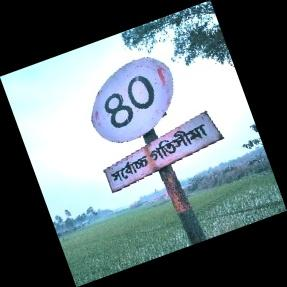Speed-limit: (91, 55, 225, 200)
